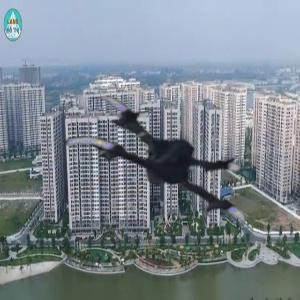drone: (58, 80, 253, 275)
